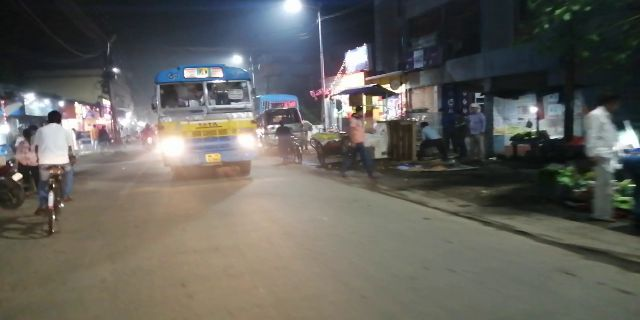Bus: (146, 60, 266, 182)
Cycle: (30, 107, 78, 234)
